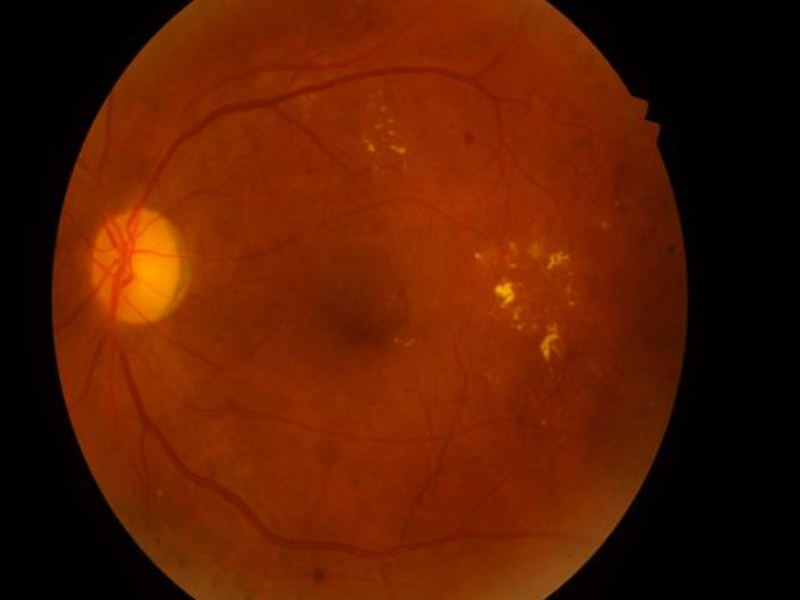Hard_exudates: (539, 322, 560, 361), (490, 282, 522, 307), (544, 250, 574, 269), (359, 134, 378, 154), (389, 337, 417, 349), (481, 368, 501, 383), (528, 243, 544, 261), (301, 49, 324, 61), (545, 367, 563, 382), (387, 142, 408, 154), (470, 250, 488, 264), (369, 158, 382, 175), (301, 104, 312, 124), (485, 310, 501, 323), (508, 242, 522, 256), (261, 73, 277, 84), (299, 92, 318, 101), (233, 462, 251, 471), (564, 284, 575, 297), (514, 323, 528, 333), (511, 309, 521, 321), (596, 220, 608, 230), (497, 271, 508, 281), (506, 263, 519, 270), (373, 121, 383, 130), (384, 130, 394, 138), (333, 285, 344, 292), (348, 292, 356, 301), (401, 159, 406, 173), (153, 490, 163, 497), (524, 386, 533, 393), (566, 300, 575, 307), (610, 200, 619, 207), (538, 420, 548, 426), (384, 118, 395, 123), (384, 301, 393, 307), (378, 106, 386, 112), (373, 91, 384, 95)
Hemorrhages: (345, 465, 363, 491), (394, 279, 408, 299), (447, 164, 465, 176), (461, 133, 477, 146), (576, 318, 598, 326), (577, 171, 592, 180), (365, 19, 377, 29), (493, 238, 503, 246), (403, 388, 413, 394)
